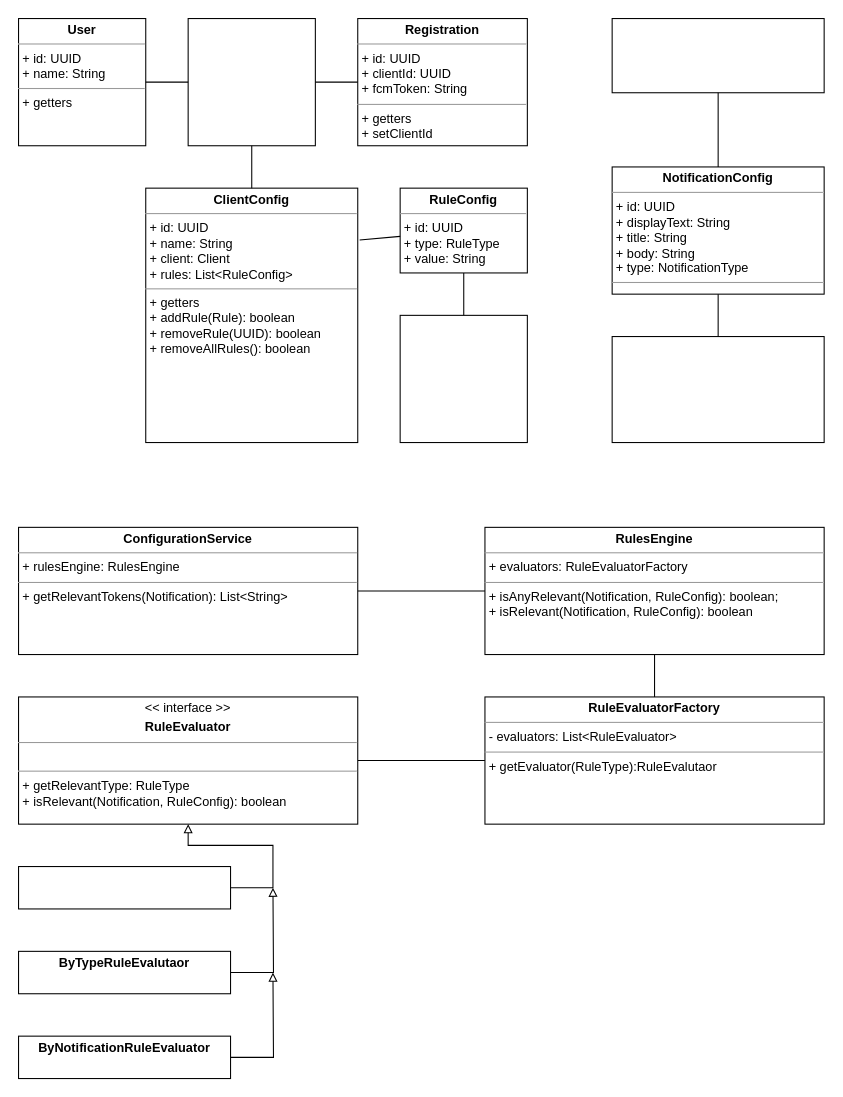
The diagram is 843 pixels wide and 1097 high, and some of its shapes have lost their labels. Each missing label, with the box of its shape:
<< enum >> RuleType + SENDER + TYPE + NOTIFICATION: (399, 314, 527, 443)
BySenderRuleEvaluator: (17, 865, 231, 909)
Client + id: UUID + name: String + user: User + getters: (187, 17, 315, 146)
Notification + id: UUID + config: NotificationConfig + sender: UUID: (611, 335, 824, 443)
NotificationType + id: UUID + name: String: (611, 17, 824, 93)
